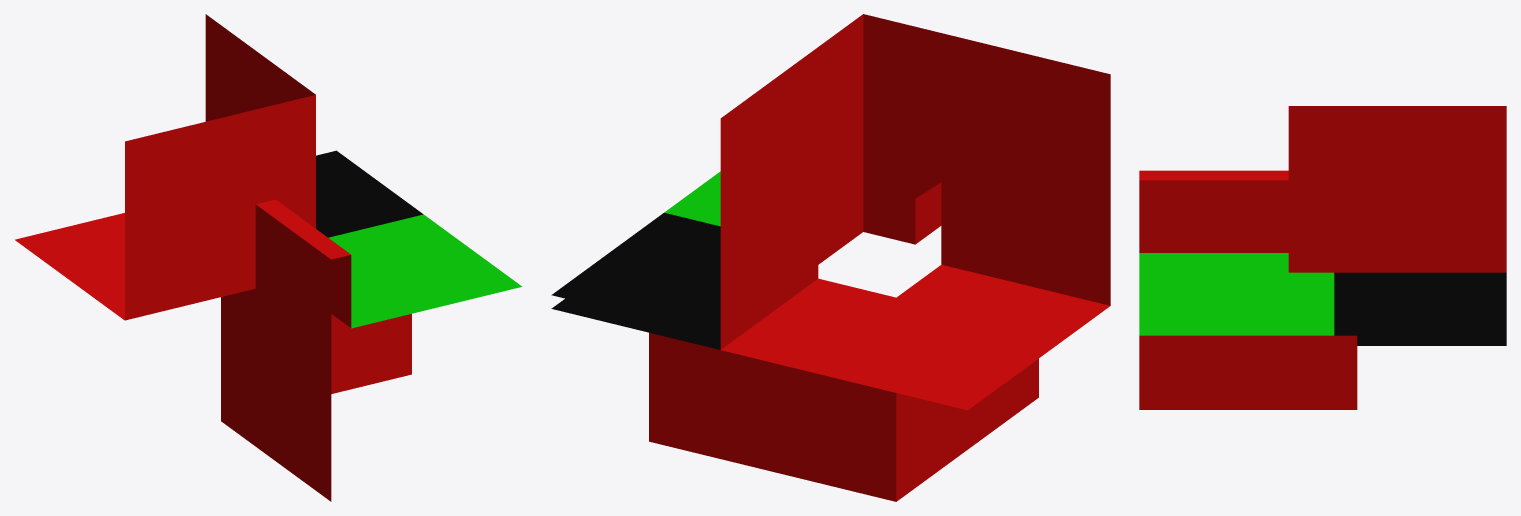
3 views of the same model, side by side, from view 1: azimuth 30°, elevation 25°; view 2: azimuth 150°, elevation 25°; view 3: azimuth 270°, elevation 25° (orthographic). The views are drawn at different scales.
Visible parts, largest first — view 1: None_P_W_E_E_E_E_A_E_None; view 2: None_P_W_E_E_E_E_A_E_None; view 3: None_P_W_E_E_E_E_A_E_None.
Boxes of the visible parts, x1,y1,x2,y2 form: None_P_W_E_E_E_E_A_E_None: (15,14,522,501); None_P_W_E_E_E_E_A_E_None: (551,14,1110,501); None_P_W_E_E_E_E_A_E_None: (1139,106,1506,409).
Bounding box in the file's own units: 100 × 100 × 100.
